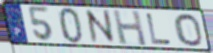0: (58, 7, 85, 45)
5: (26, 5, 54, 44)
H: (111, 9, 149, 48)
L: (145, 12, 173, 46)
N: (83, 8, 118, 45)
O: (173, 13, 205, 48)
